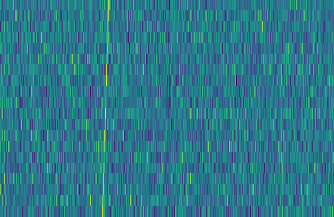signal: (96, 0, 112, 217)
